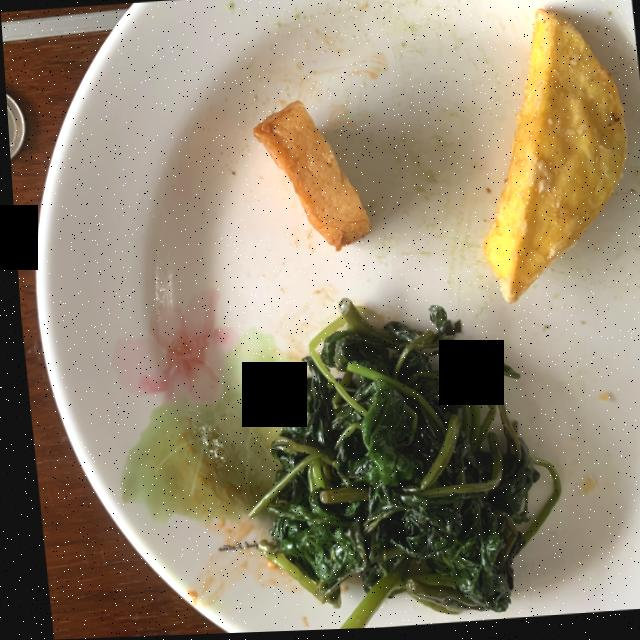coin: (5, 93, 24, 158)
creamy tofu: (250, 102, 366, 252)
sweet potato leaves: (241, 300, 554, 631)
